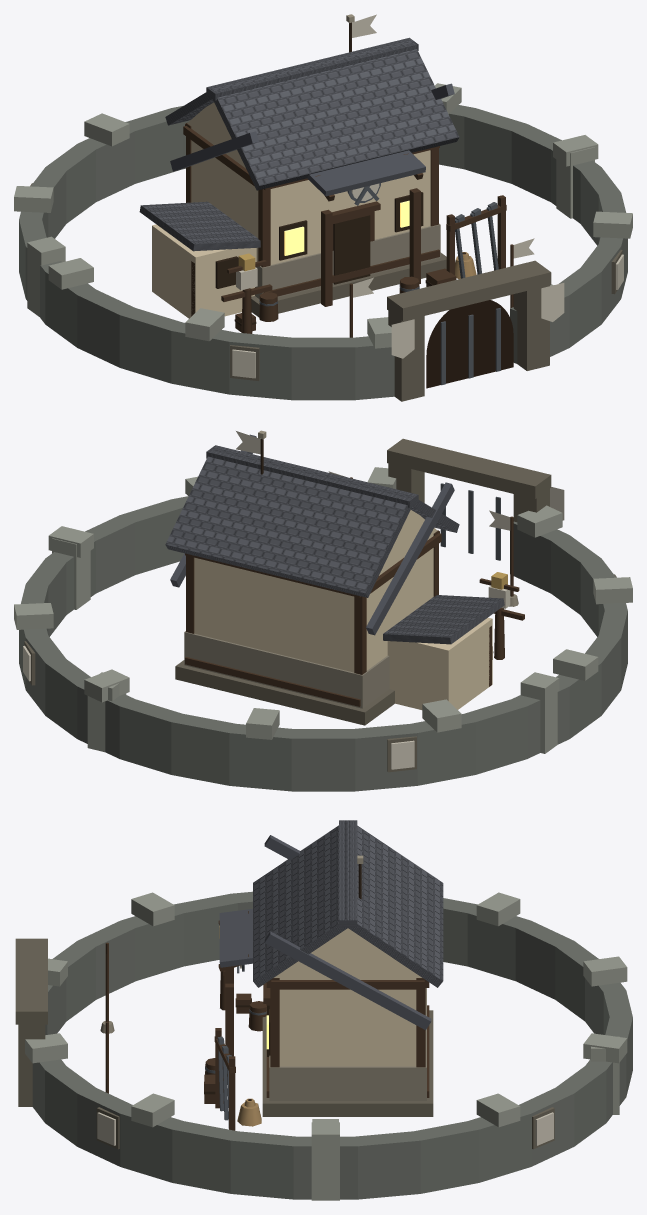
The model's file is town-infantry-L2.glb.
3 views of the same model, one above another, from view 1: azimuth 30°, elevation 25°; view 2: azimuth 150°, elevation 25°; view 3: azimuth 270°, elevation 25° (orthographic).
Parts seen in each view (by area): view 1: building-infantry-L2, object 8, object 9, object 10, object 12, object 11, object 13, object 2, object 7; view 2: building-infantry-L2, object 8, object 9, object 10, object 11, object 13; view 3: object 8, building-infantry-L2, object 9, object 10, object 2, object 11, object 5.
Boxes of the visible parts, x1,y1,x2,y2 form: building-infantry-L2: (139,14,506,333); object 8: (19,105,627,400); object 9: (14,83,632,348); object 10: (30,183,622,401); object 12: (426,300,513,388); object 11: (232,254,623,378); object 13: (440,308,500,385); object 2: (235,244,513,337); object 7: (353,238,534,297); building-infantry-L2: (165,430,524,725); object 8: (19,496,627,791); object 9: (14,467,632,753); object 10: (24,438,616,772); object 11: (23,487,564,769); object 13: (440,483,500,560); object 8: (32,891,632,1199); building-infantry-L2: (204,820,443,1130); object 9: (25,892,627,1200); object 10: (15,938,554,1149); object 2: (105,942,266,1093); object 11: (97,1112,553,1145); object 5: (237,1098,261,1126).
Bounding box in the file's own units: 7.02 × 2.91 × 6.95.
Materials: 16 (1 with a texture image).
